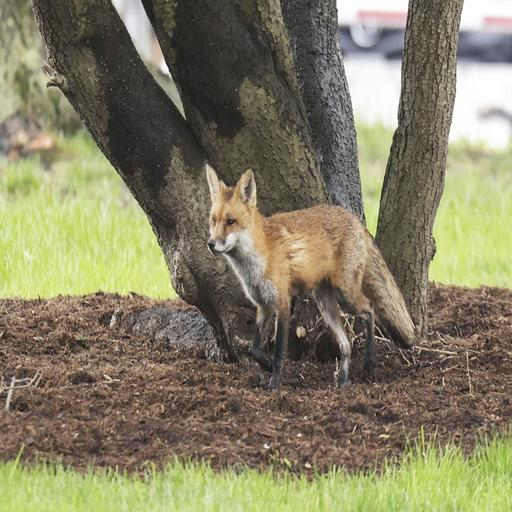Fox: (200, 163, 420, 398)
